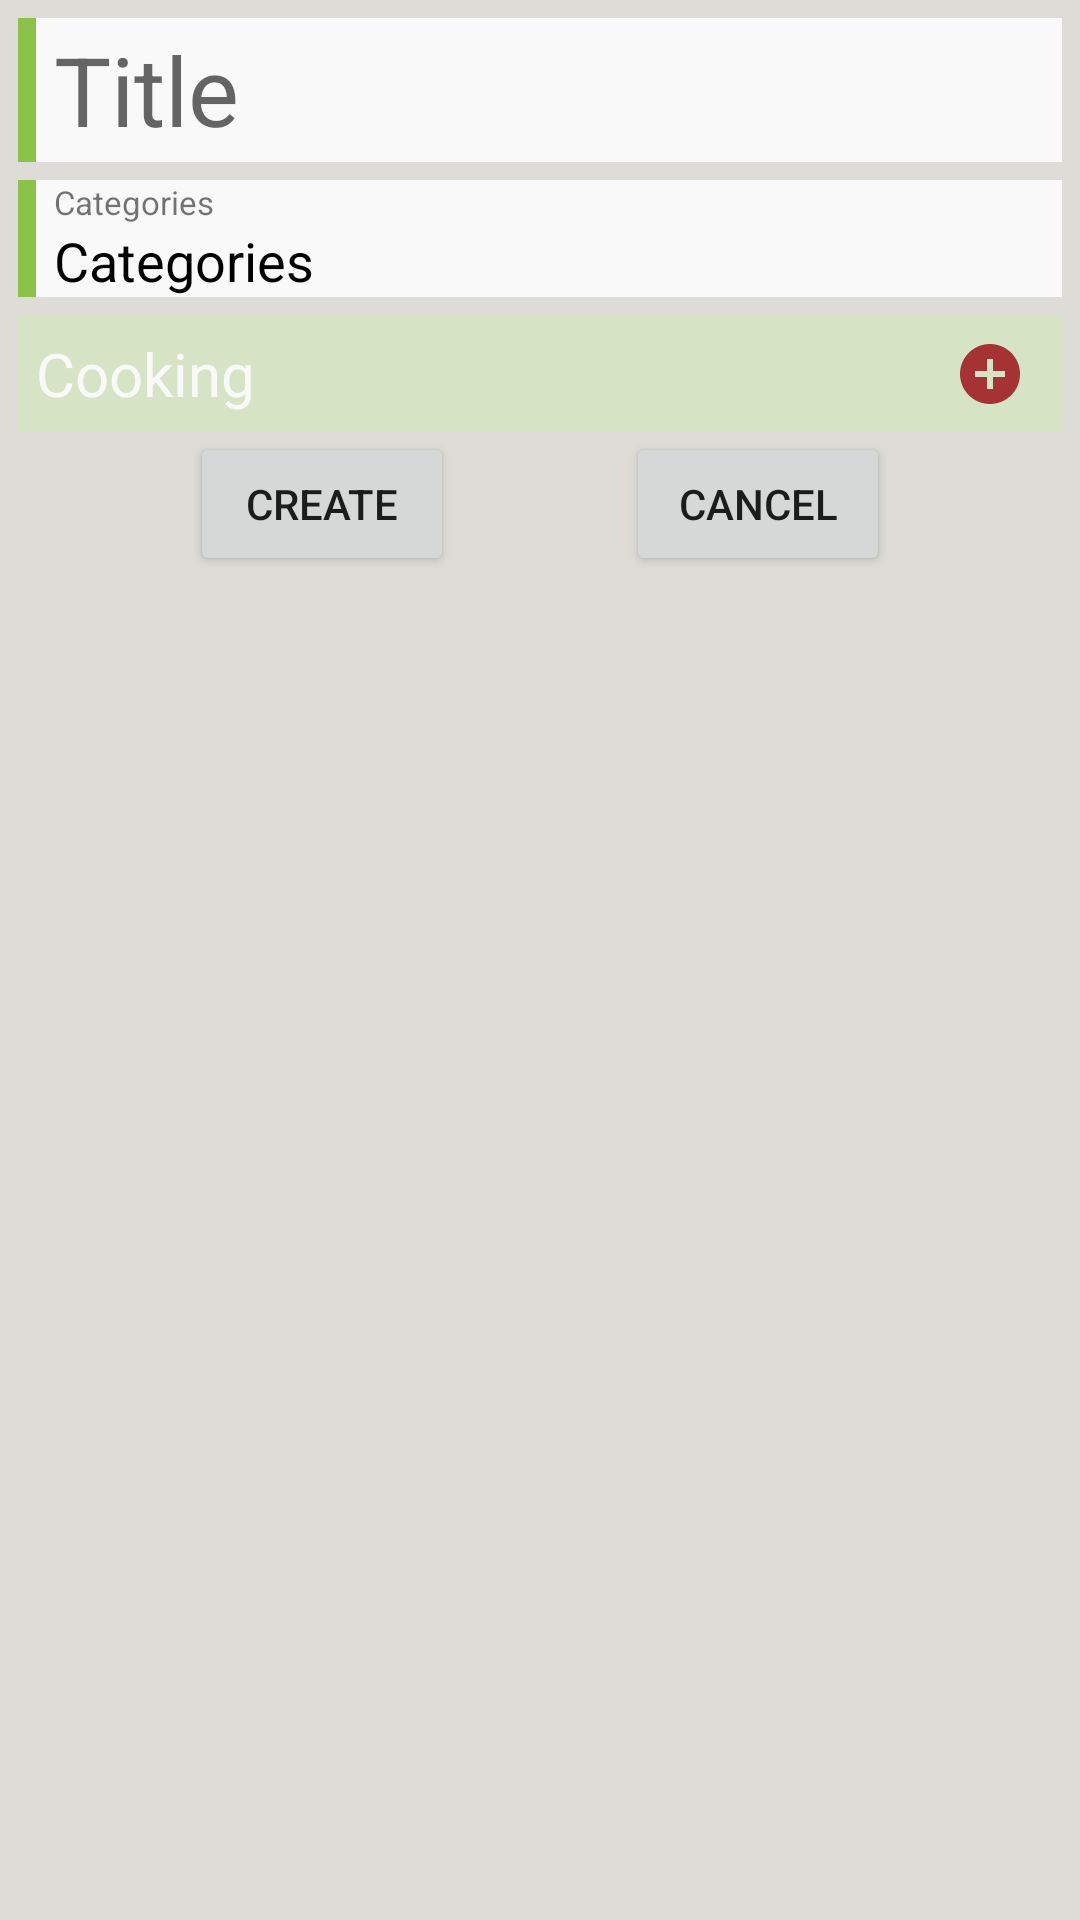

Where to tap for icons on this 1080*1920 app screen, as [x,y]:
Add stage: [990,374]
